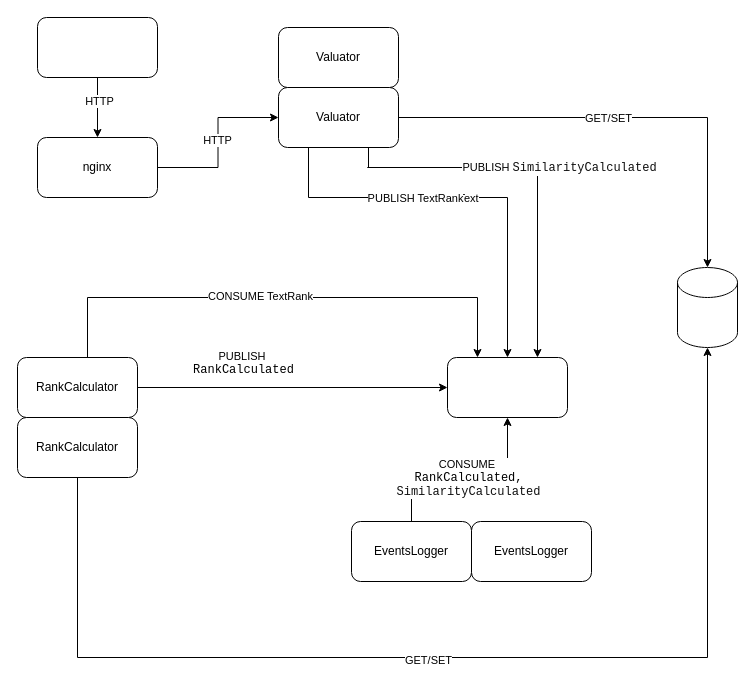
Image size: 755x684. Some labels were removed from this diagram. Each missing label, with the centre of its shape:
RabbitMQ: the point at 507,387
Redis: the point at 707,307
Браузер: the point at 97,47
